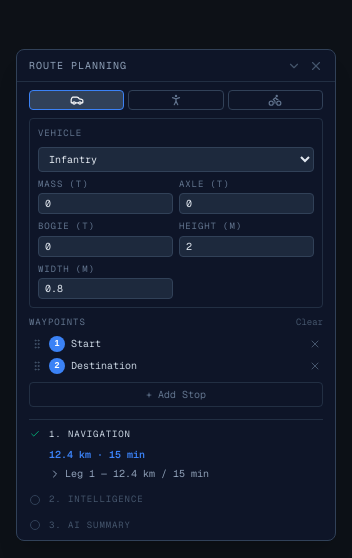
it: RoutePanel › expands and collapses a leg accordion
Click the button with test id "leg-toggle-0". click: (186, 474)
box: x1=49 y1=466 x2=323 y2=481
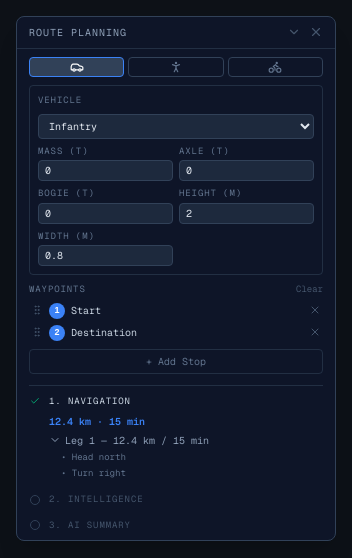
Expected: the element with test id "leg-steps-0" is shown, x1=61 y1=451 x2=126 y2=479
Expected: the text "• Head north" is shown, x1=61 y1=451 x2=126 y2=463
Click the button with test id "leg-toggle-0". click: (186, 440)
box: x1=49 y1=433 x2=323 y2=448
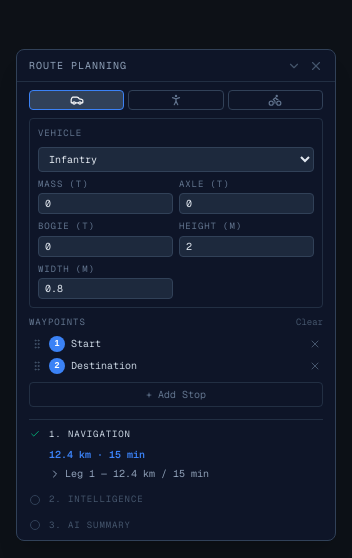
Expected: the element with test id "leg-steps-0" is gone
